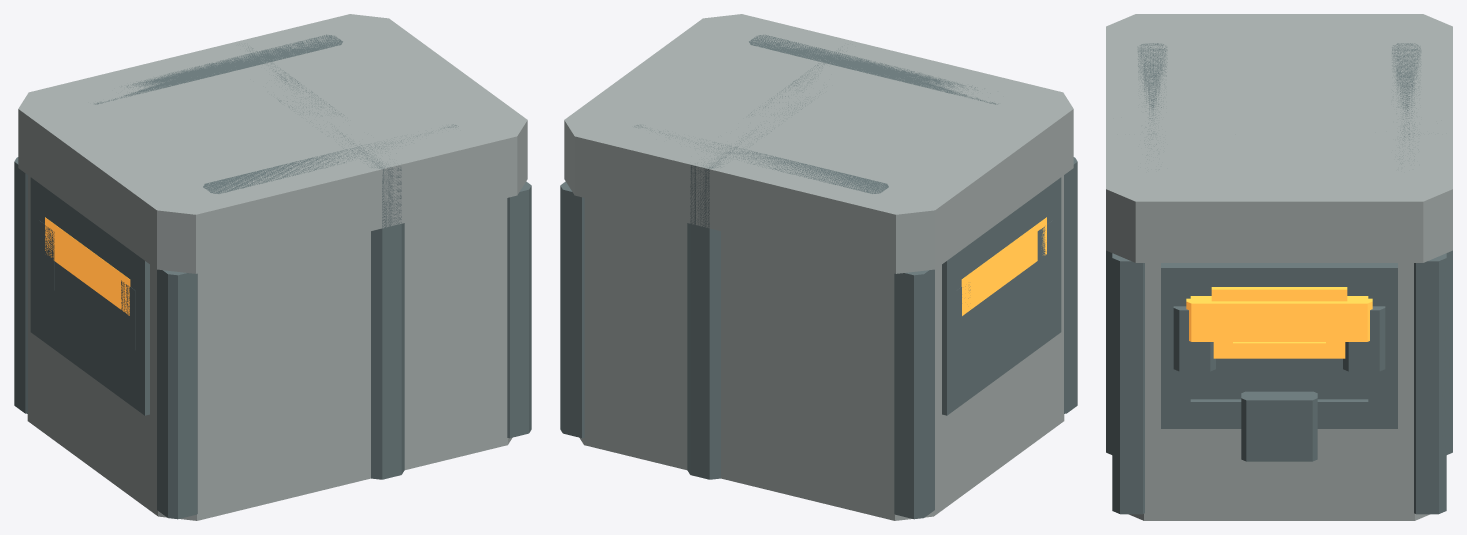
The model's file is refinery-crate-lod0.glb.
3 views of the same model, side by side, from view 1: azimuth 30°, elevation 25°; view 2: azimuth 150°, elevation 25°; view 3: azimuth 270°, elevation 25° (orthographic). The views are drawn at different scales.
Visible parts, largest first — view 1: refinery-crate-lid, refinery-crate-shell, refinery-crate-side-panel-rear, refinery-crate-corner-brace-rl, refinery-crate-band, refinery-crate-corner-brace-fl, refinery-crate-corner-brace-rr, refinery-crate-handle-rear-grip, refinery-crate-top-rail-right, refinery-crate-top-rail-left, refinery-crate-handle-rear-right-mount, refinery-crate-handle-rear-left-mount; view 2: refinery-crate-lid, refinery-crate-shell, refinery-crate-side-panel-rear, refinery-crate-corner-brace-rr, refinery-crate-band, refinery-crate-corner-brace-fr, refinery-crate-corner-brace-rl, refinery-crate-handle-rear-grip, refinery-crate-top-rail-left, refinery-crate-top-rail-right, refinery-crate-handle-rear-left-mount, refinery-crate-handle-rear-right-mount; view 3: refinery-crate-lid, refinery-crate-shell, refinery-crate-side-panel-front, refinery-crate-corner-brace-fl, refinery-crate-corner-brace-fr, refinery-crate-handle-front-grip, refinery-crate-latch, refinery-crate-marker, refinery-crate-band, refinery-crate-handle-front-left-mount, refinery-crate-handle-front-right-mount, refinery-crate-top-rail-right (+1 smaller).
Boxes of the visible parts, x1,y1,x2,y2 form: refinery-crate-lid: (18,14,527,273); refinery-crate-shell: (27,175,512,520); refinery-crate-side-panel-rear: (30,177,149,415); refinery-crate-corner-brace-rl: (157,269,197,519); refinery-crate-band: (246,46,404,479); refinery-crate-corner-brace-fl: (507,181,531,438); refinery-crate-corner-brace-rr: (14,157,27,413); refinery-crate-handle-rear-grip: (45,217,130,315); refinery-crate-top-rail-right: (94,34,342,104); refinery-crate-top-rail-left: (203,124,458,193); refinery-crate-handle-rear-right-mount: (39,220,54,290); refinery-crate-handle-rear-left-mount: (121,280,135,349); refinery-crate-lid: (564,14,1073,273); refinery-crate-shell: (579,175,1064,520); refinery-crate-side-panel-rear: (942,177,1061,415); refinery-crate-corner-brace-rr: (894,269,934,519); refinery-crate-band: (687,46,846,479); refinery-crate-corner-brace-fr: (560,181,584,438); refinery-crate-corner-brace-rl: (1064,157,1077,413); refinery-crate-handle-rear-grip: (961,217,1046,315); refinery-crate-top-rail-left: (749,34,998,104); refinery-crate-top-rail-right: (634,124,888,193); refinery-crate-handle-rear-left-mount: (1037,220,1052,290); refinery-crate-handle-rear-right-mount: (956,286,970,349); refinery-crate-lid: (1106,14,1452,262); refinery-crate-shell: (1129,263,1429,520); refinery-crate-side-panel-front: (1161,263,1397,428); refinery-crate-corner-brace-fl: (1112,253,1144,514); refinery-crate-corner-brace-fr: (1414,253,1446,514); refinery-crate-handle-front-grip: (1186,296,1372,341); refinery-crate-latch: (1241,391,1317,461); refinery-crate-marker: (1211,287,1347,358); refinery-crate-band: (1106,250,1452,454); refinery-crate-handle-front-left-mount: (1173,306,1215,371); refinery-crate-handle-front-right-mount: (1343,306,1385,371); refinery-crate-top-rail-right: (1392,43,1421,164).
Bounding box in the file's own units: 1.11 × 0.84 × 0.82.
